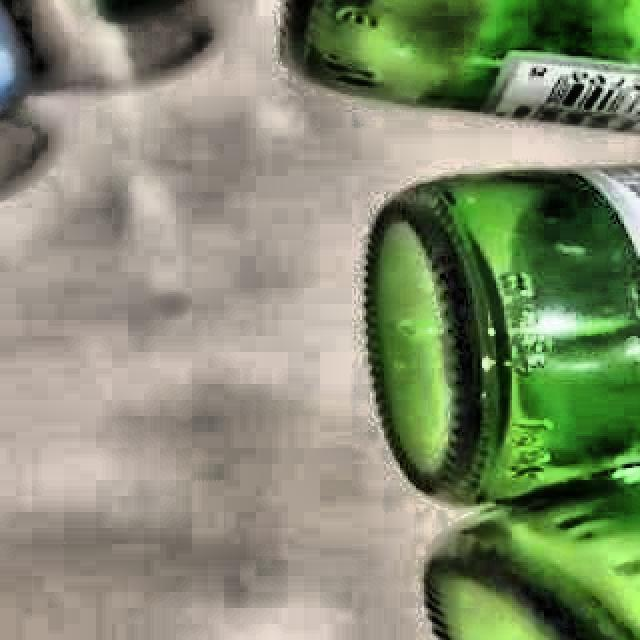glass: (368, 166, 640, 640)
